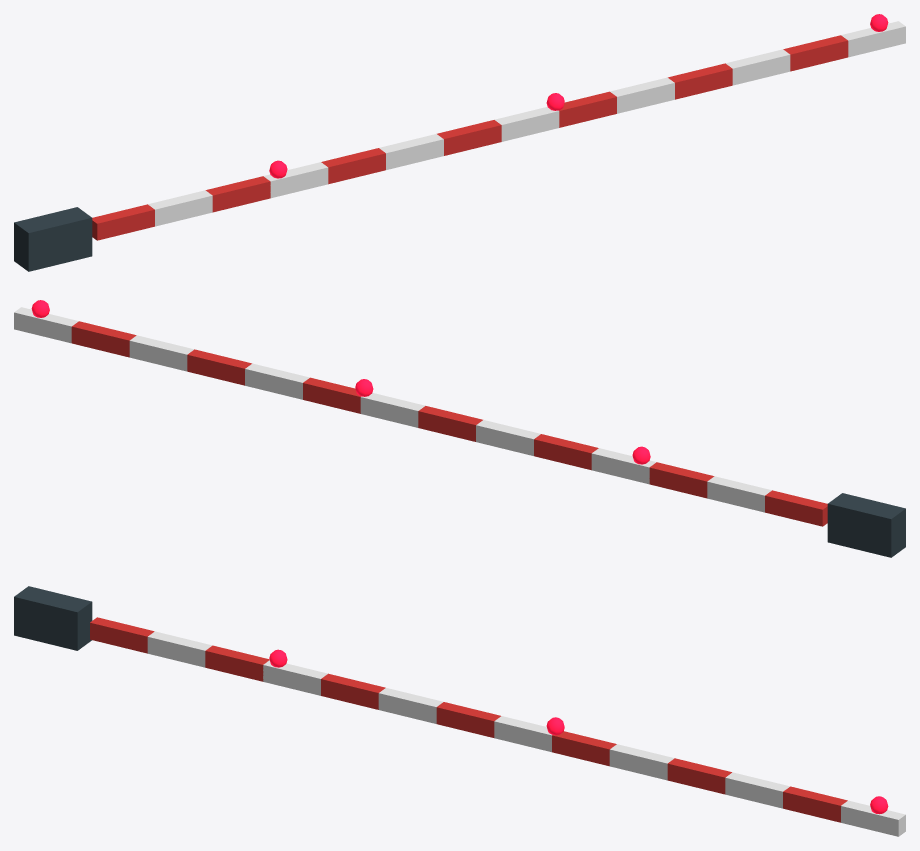
File: roadevents_rail_arm.glb
3 renders of one model, top to bottom at view 1: azimuth 30°, elevation 25°; view 2: azimuth 150°, elevation 25°; view 3: azimuth 330°, elevation 25°, orthographic.
Visible parts, largest first — view 1: RailArm; view 2: RailArm; view 3: RailArm.
Part boxes in pixels (x1,y1,x2,y2): RailArm: (14, 14, 905, 271); RailArm: (14, 300, 905, 557); RailArm: (14, 586, 905, 836).
Size of the model in its own units: 7.63 by 0.35 by 0.22.
